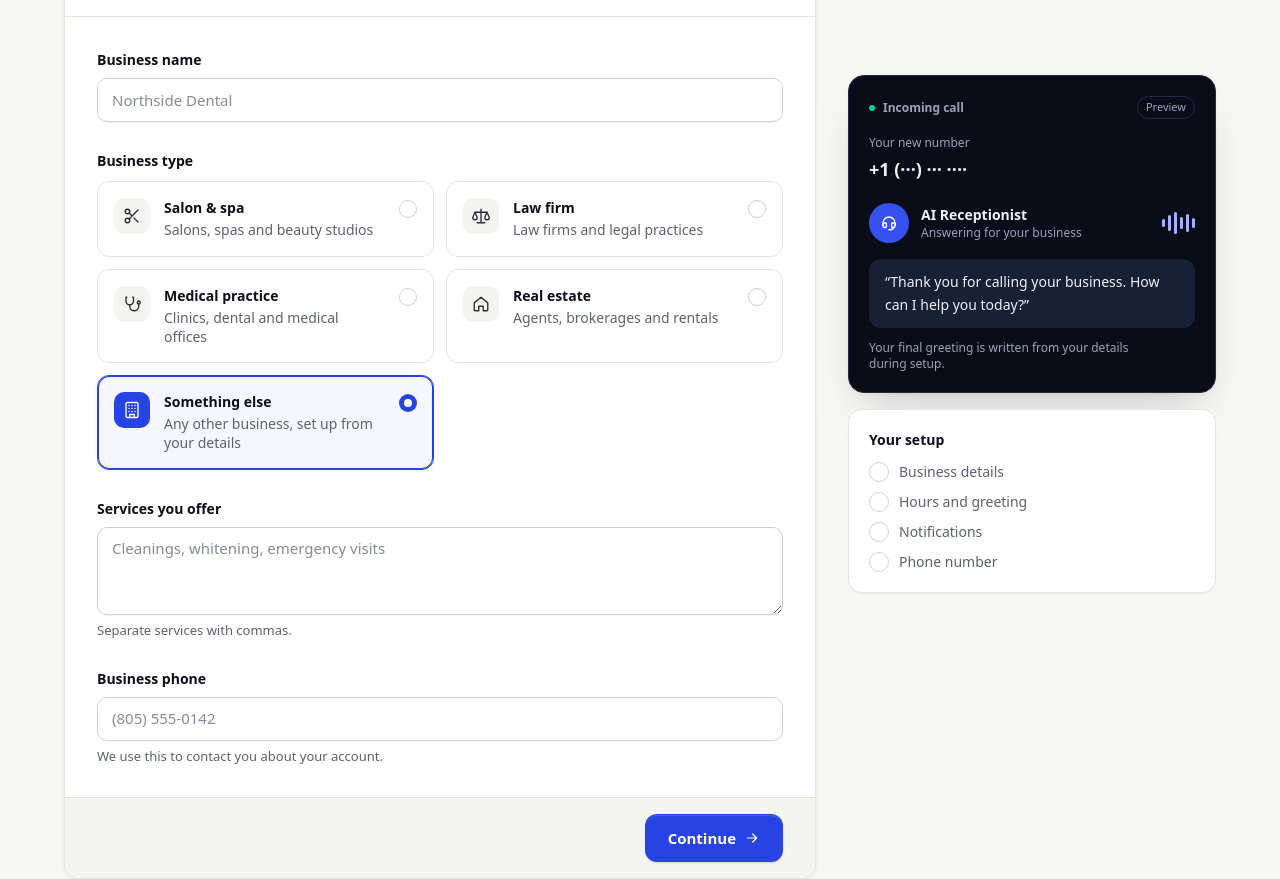
Test: SignupWizard › won't move past a step with missing details
(page scrolled)
Step 1. Click the button "Continue" → (714, 838), box x1=645 y1=814 x2=783 y2=862
(page scrolled)
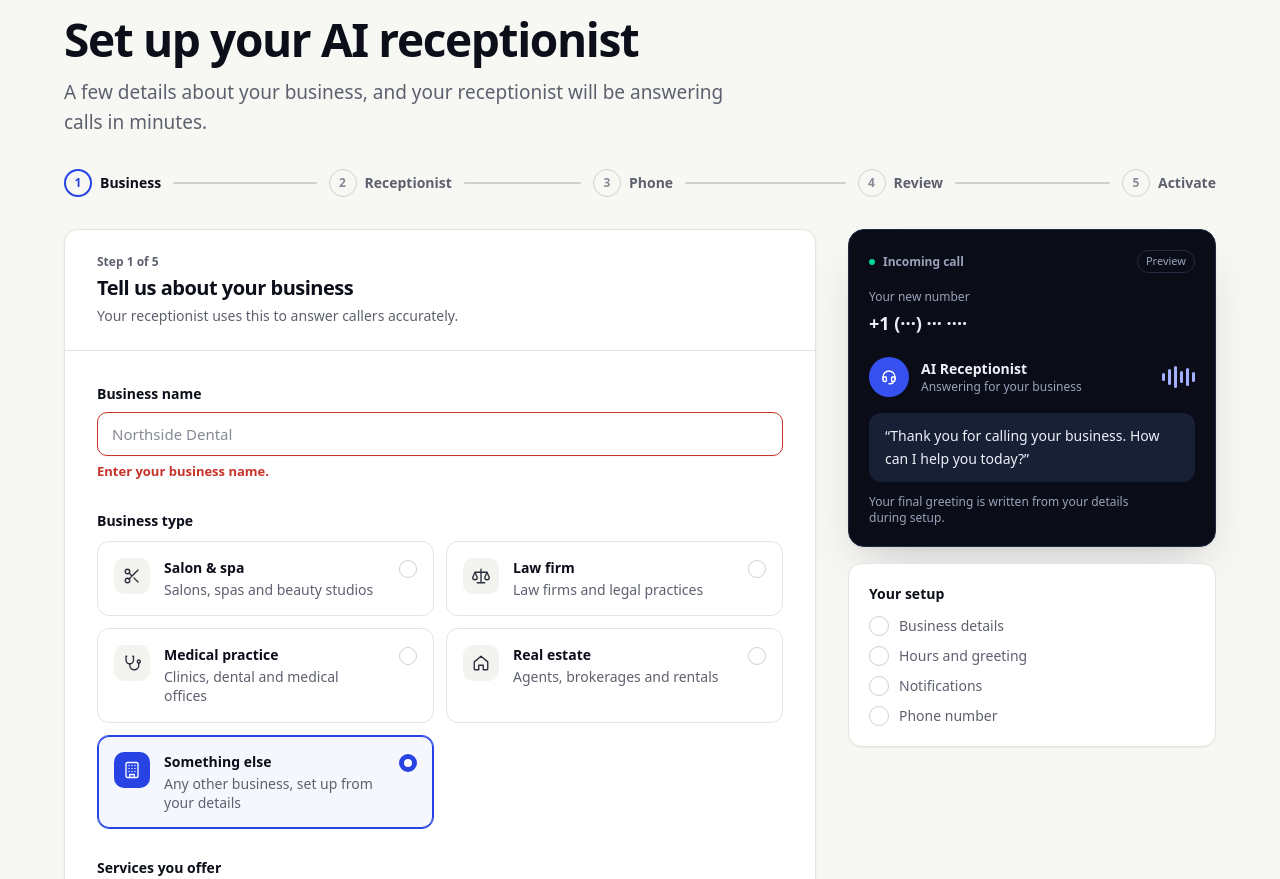
Expected: the heading "Tell us about your business" is shown, x1=97 y1=274 x2=353 y2=302
Expected: the text "Enter your business name." is shown, x1=97 y1=462 x2=269 y2=480
